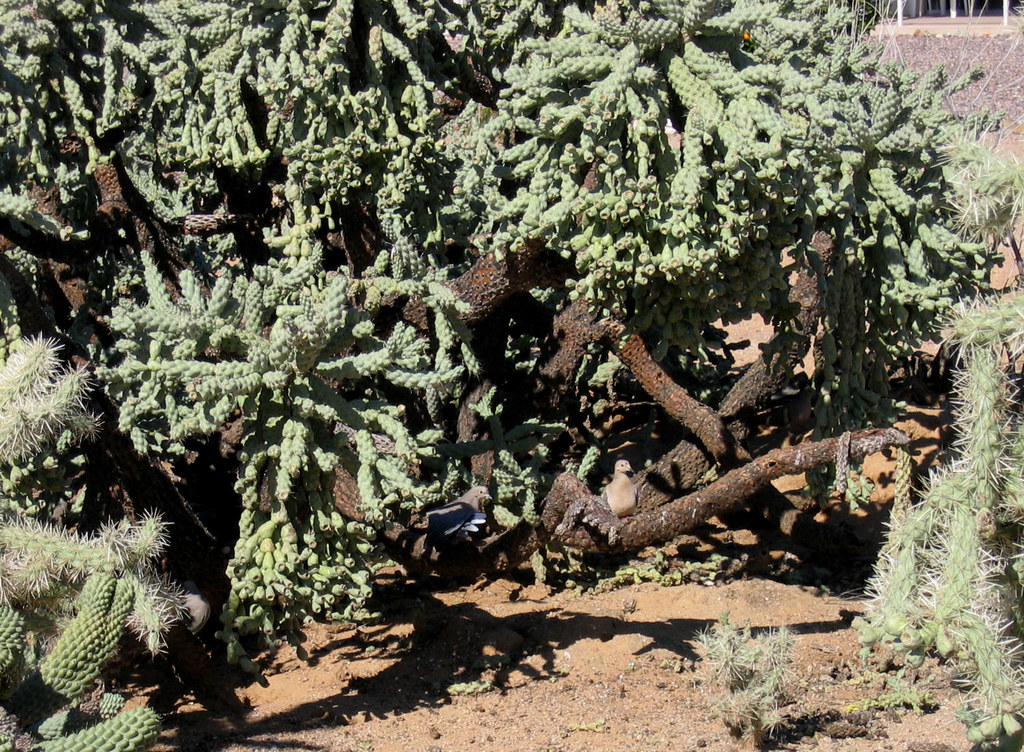Animal: (421, 483, 491, 536), (599, 458, 641, 515)
